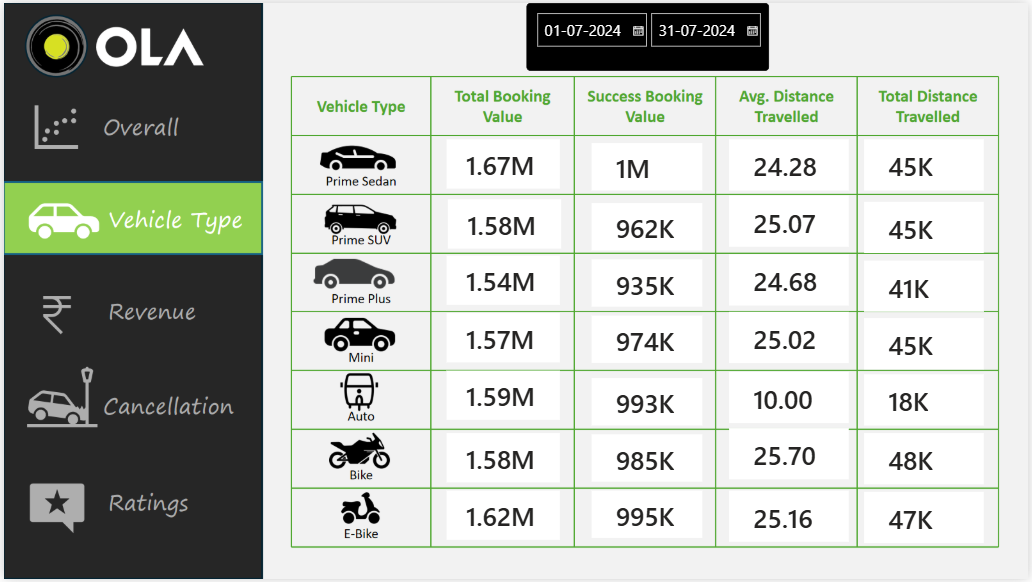

The dashboard page shown, as its layout file describes it:
{"tool":"powerbi","page":{"name":"VehicleType","canvas":[1280,720],"ordinal":1},"visuals":[{"type":"actionButton","box":[0,115.6,329.7,89.1],"z":0},{"type":"actionButton","box":[0,342.2,318.8,96.9],"z":1000},{"type":"actionButton","box":[0,464.1,318.8,85.9],"z":2000},{"type":"actionButton","box":[0,590.6,318.8,70.3],"z":3000},{"type":"cardVisual","fields":{"Data":["Sum(Sheet1.Booking_Value)"]},"box":[550,240,151.7,71.7],"z":4000},{"type":"cardVisual","fields":{"Data":["Sum(Sheet1.Booking_Value)"]},"box":[548.3,383.3,151.7,71.7],"z":5000},{"type":"cardVisual","fields":{"Data":["Sum(Sheet1.Booking_Value)"]},"box":[548.3,455,151.7,71.7],"z":6000},{"type":"cardVisual","fields":{"Data":["Sum(Sheet1.Booking_Value)"]},"box":[548.3,533.3,151.7,71.7],"z":7000},{"type":"cardVisual","fields":{"Data":["Sum(Sheet1.Booking_Value)"]},"box":[548.3,605,151.7,71.7],"z":8000},{"type":"cardVisual","fields":{"Data":["Sum(Sheet1.Booking_Value)"]},"box":[548.3,311.7,151.7,71.7],"z":9000},{"type":"cardVisual","fields":{"Data":["Sum(Sheet1.Booking_Value)"]},"box":[548.3,165,151.7,71.7],"z":10000},{"type":"cardVisual","fields":{"Data":["Sum(Sheet1.Booking_Value)"]},"box":[730,245.6,148.2,70],"z":11001},{"type":"cardVisual","fields":{"Data":["Sum(Sheet1.Booking_Value)"]},"box":[730,463.8,148.2,70],"z":11002},{"type":"cardVisual","fields":{"Data":["Sum(Sheet1.Booking_Value)"]},"box":[730,533.8,148.2,70],"z":11003},{"type":"cardVisual","fields":{"Data":["Sum(Sheet1.Booking_Value)"]},"box":[730,605.1,148.2,70],"z":11004},{"type":"cardVisual","fields":{"Data":["Sum(Sheet1.Booking_Value)"]},"box":[730,315.6,148.2,70],"z":11005},{"type":"cardVisual","fields":{"Data":["Sum(Sheet1.Booking_Value)"]},"box":[730,385.6,148.2,70],"z":11006},{"type":"cardVisual","fields":{"Data":["Sum(Sheet1.Booking_Value)"]},"box":[730,170.2,148.2,70],"z":11007},{"type":"cardVisual","fields":{"Data":["Avg(Sheet1.Ride_Distance)"]},"box":[901.5,166,159.2,74.1],"z":11008},{"type":"cardVisual","fields":{"Data":["Avg(Sheet1.Ride_Distance)"]},"box":[901.5,310.1,159.2,74.1],"z":11009},{"type":"cardVisual","fields":{"Data":["Avg(Sheet1.Ride_Distance)"]},"box":[901.5,381.5,159.2,74.1],"z":11010},{"type":"cardVisual","fields":{"Data":["Avg(Sheet1.Ride_Distance)"]},"box":[901.5,455.6,159.2,74.1],"z":11011},{"type":"cardVisual","fields":{"Data":["Avg(Sheet1.Ride_Distance)"]},"box":[901.5,526.9,159.2,74.1],"z":11012},{"type":"cardVisual","fields":{"Data":["Avg(Sheet1.Ride_Distance)"]},"box":[901.5,605.1,159.2,74.1],"z":11013},{"type":"cardVisual","fields":{"Data":["Avg(Sheet1.Ride_Distance)"]},"box":[901.5,236,159.2,74.1],"z":11014},{"type":"cardVisual","fields":{"Data":["Sum(Sheet1.Ride_Distance)"]},"box":[1070.3,166,159.2,74.1],"z":11015},{"type":"cardVisual","fields":{"Data":["Sum(Sheet1.Ride_Distance)"]},"box":[1070.3,244.3,159.2,74.1],"z":11016},{"type":"cardVisual","fields":{"Data":["Sum(Sheet1.Ride_Distance)"]},"box":[1070.3,317,159.2,74.1],"z":11017},{"type":"cardVisual","fields":{"Data":["Sum(Sheet1.Ride_Distance)"]},"box":[1070.3,389.7,159.2,74.1],"z":11018},{"type":"cardVisual","fields":{"Data":["Sum(Sheet1.Ride_Distance)"]},"box":[1070.3,459.7,159.2,74.1],"z":11019},{"type":"cardVisual","fields":{"Data":["Sum(Sheet1.Ride_Distance)"]},"box":[1070.3,532.4,159.2,74.1],"z":11020},{"type":"cardVisual","fields":{"Data":["Sum(Sheet1.Ride_Distance)"]},"box":[1070.3,606.5,159.2,74.1],"z":11021},{"type":"slicer","title":"Date","fields":{"Values":["Sheet1.Date"]},"box":[653.2,0,303.3,85.1],"z":11022}]}

Visuals, with their boxes on the page's 1280x720 design canvas (x1, y1, x2, y2). These are canvas units, not pixel positions in the 1032x582 screenshot, which may show the page scaled, cropped or inside an application window:
actionButton: bbox=[0, 116, 330, 205]
actionButton: bbox=[0, 342, 319, 439]
actionButton: bbox=[0, 464, 319, 550]
actionButton: bbox=[0, 591, 319, 661]
cardVisual - Sum(Sheet1.Booking_Value): bbox=[550, 240, 702, 312]
cardVisual - Sum(Sheet1.Booking_Value): bbox=[548, 383, 700, 455]
cardVisual - Sum(Sheet1.Booking_Value): bbox=[548, 455, 700, 527]
cardVisual - Sum(Sheet1.Booking_Value): bbox=[548, 533, 700, 605]
cardVisual - Sum(Sheet1.Booking_Value): bbox=[548, 605, 700, 677]
cardVisual - Sum(Sheet1.Booking_Value): bbox=[548, 312, 700, 383]
cardVisual - Sum(Sheet1.Booking_Value): bbox=[548, 165, 700, 237]
cardVisual - Sum(Sheet1.Booking_Value): bbox=[730, 246, 878, 316]
cardVisual - Sum(Sheet1.Booking_Value): bbox=[730, 464, 878, 534]
cardVisual - Sum(Sheet1.Booking_Value): bbox=[730, 534, 878, 604]
cardVisual - Sum(Sheet1.Booking_Value): bbox=[730, 605, 878, 675]
cardVisual - Sum(Sheet1.Booking_Value): bbox=[730, 316, 878, 386]
cardVisual - Sum(Sheet1.Booking_Value): bbox=[730, 386, 878, 456]
cardVisual - Sum(Sheet1.Booking_Value): bbox=[730, 170, 878, 240]
cardVisual - Avg(Sheet1.Ride_Distance): bbox=[902, 166, 1061, 240]
cardVisual - Avg(Sheet1.Ride_Distance): bbox=[902, 310, 1061, 384]
cardVisual - Avg(Sheet1.Ride_Distance): bbox=[902, 382, 1061, 456]
cardVisual - Avg(Sheet1.Ride_Distance): bbox=[902, 456, 1061, 530]
cardVisual - Avg(Sheet1.Ride_Distance): bbox=[902, 527, 1061, 601]
cardVisual - Avg(Sheet1.Ride_Distance): bbox=[902, 605, 1061, 679]
cardVisual - Avg(Sheet1.Ride_Distance): bbox=[902, 236, 1061, 310]
cardVisual - Sum(Sheet1.Ride_Distance): bbox=[1070, 166, 1230, 240]
cardVisual - Sum(Sheet1.Ride_Distance): bbox=[1070, 244, 1230, 318]
cardVisual - Sum(Sheet1.Ride_Distance): bbox=[1070, 317, 1230, 391]
cardVisual - Sum(Sheet1.Ride_Distance): bbox=[1070, 390, 1230, 464]
cardVisual - Sum(Sheet1.Ride_Distance): bbox=[1070, 460, 1230, 534]
cardVisual - Sum(Sheet1.Ride_Distance): bbox=[1070, 532, 1230, 606]
cardVisual - Sum(Sheet1.Ride_Distance): bbox=[1070, 606, 1230, 681]
"Date" slicer: bbox=[653, 0, 956, 85]
